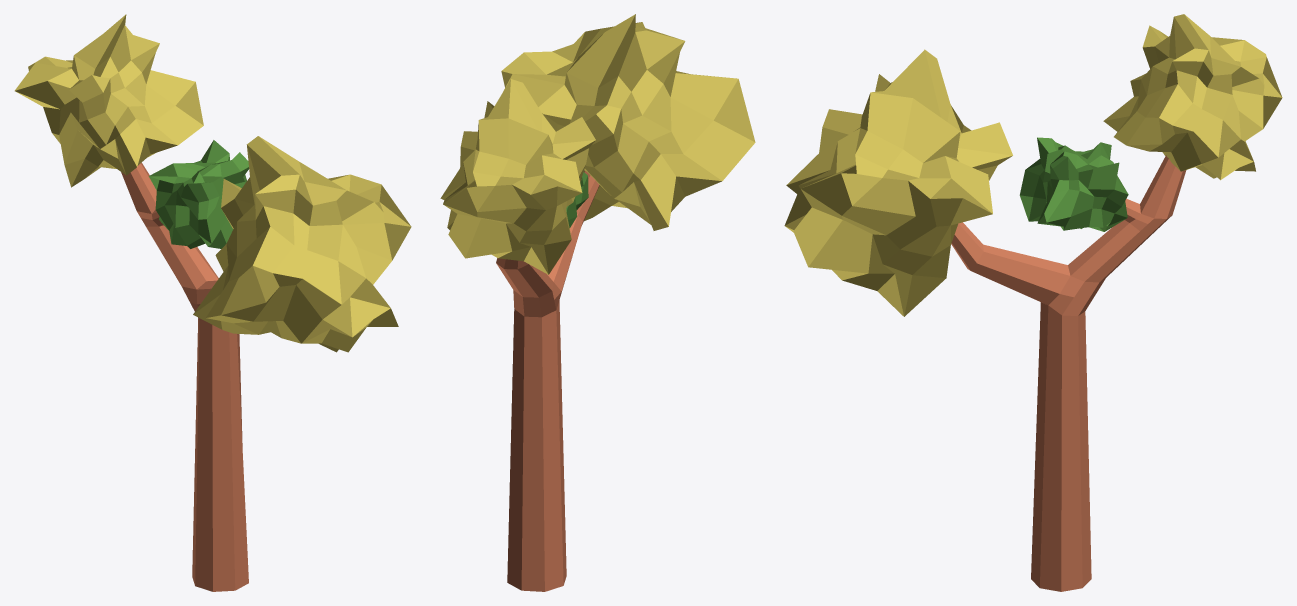
Rendered from Tree_03_autumn_mat.fbx.
3 views of the same model, side by side, from view 1: azimuth 30°, elevation 25°; view 2: azimuth 150°, elevation 25°; view 3: azimuth 270°, elevation 25° (orthographic). The views are drawn at different scales.
Parts seen in each view (by area): view 1: Tree_03_autumn_mat; view 2: Tree_03_autumn_mat; view 3: Tree_03_autumn_mat.
Boxes of the visible parts, x1,y1,x2,y2 form: Tree_03_autumn_mat: (14, 14, 411, 591); Tree_03_autumn_mat: (440, 14, 755, 591); Tree_03_autumn_mat: (784, 14, 1282, 591).
Size of the model in its own units: 3.11 by 7.1 by 5.85.
